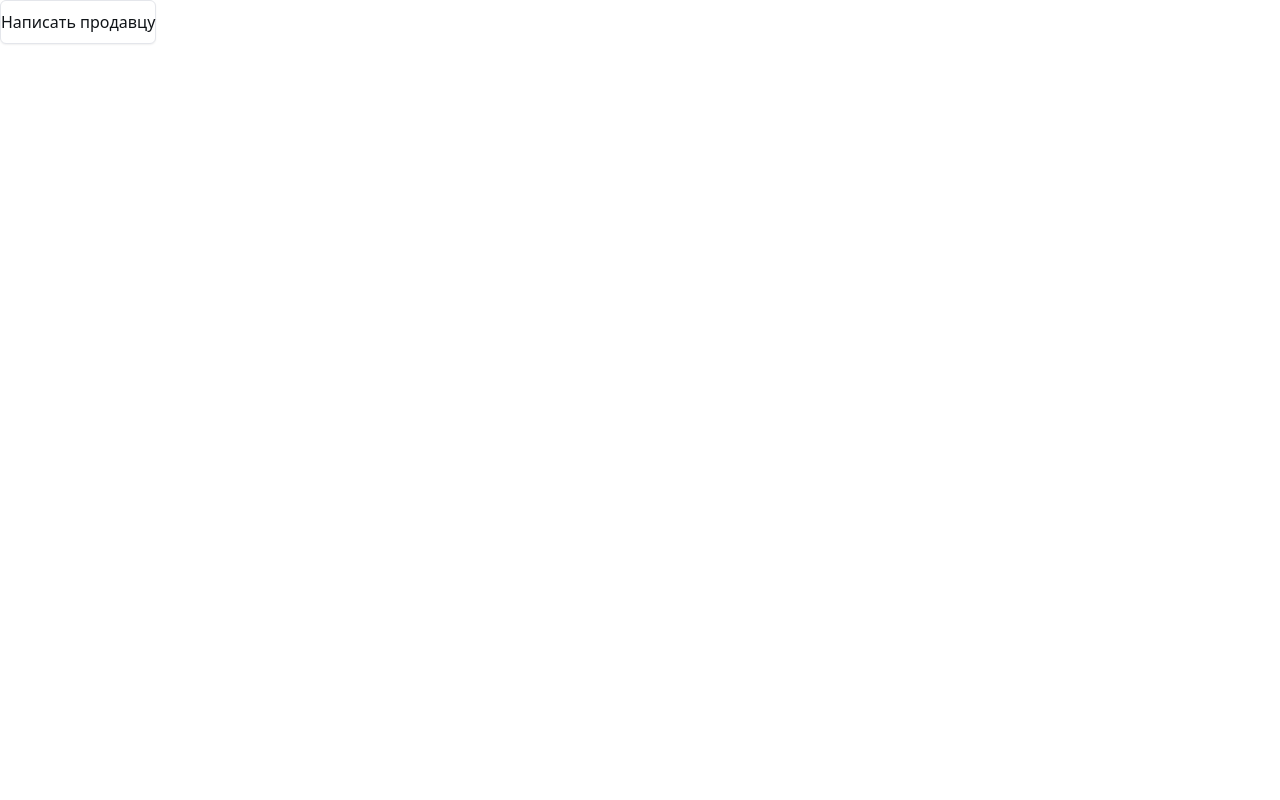
Test: ContactSellerButton › без заказов объясняет,что диалог открывается по заказу
Click the button "Написать продавцу".
click(78, 22)  # box [0,0,156,44]
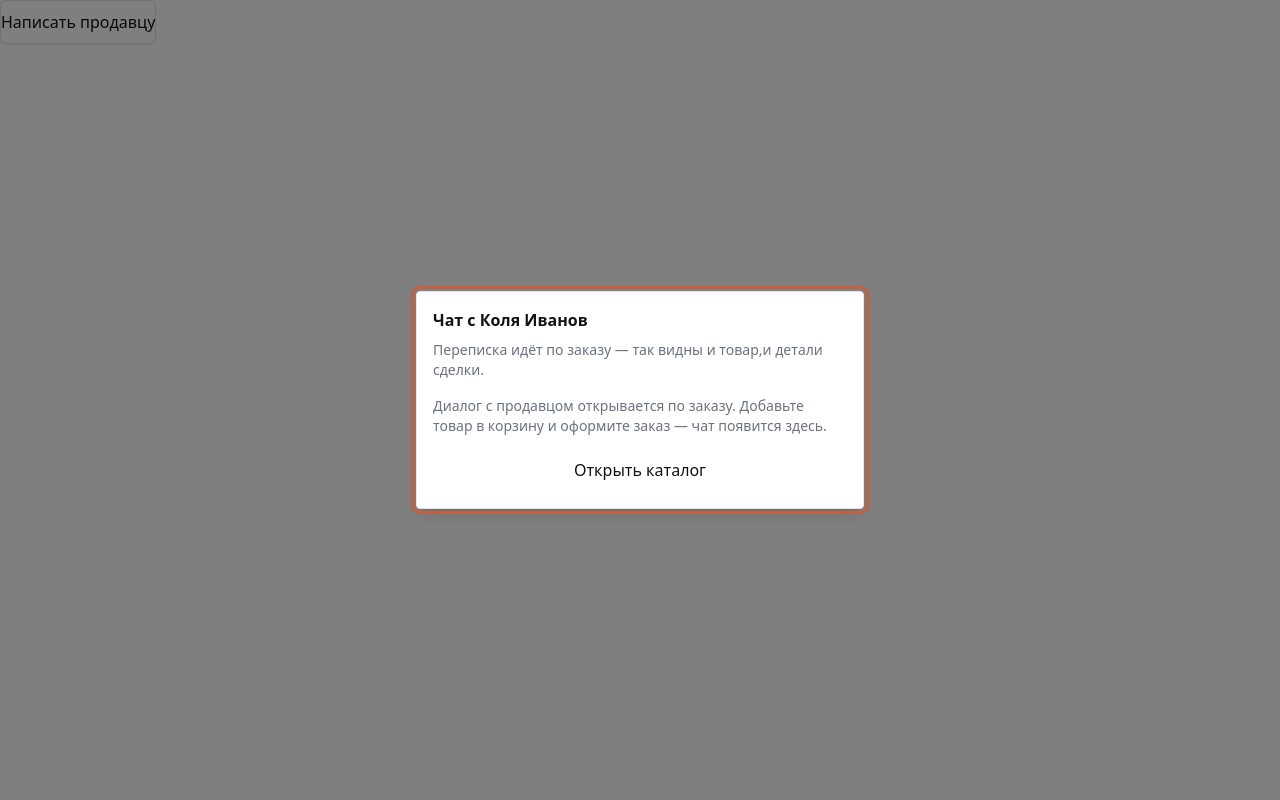
Expected: the text "Диалог с продавцом открывается по заказу" is shown, [433,396,827,435]
